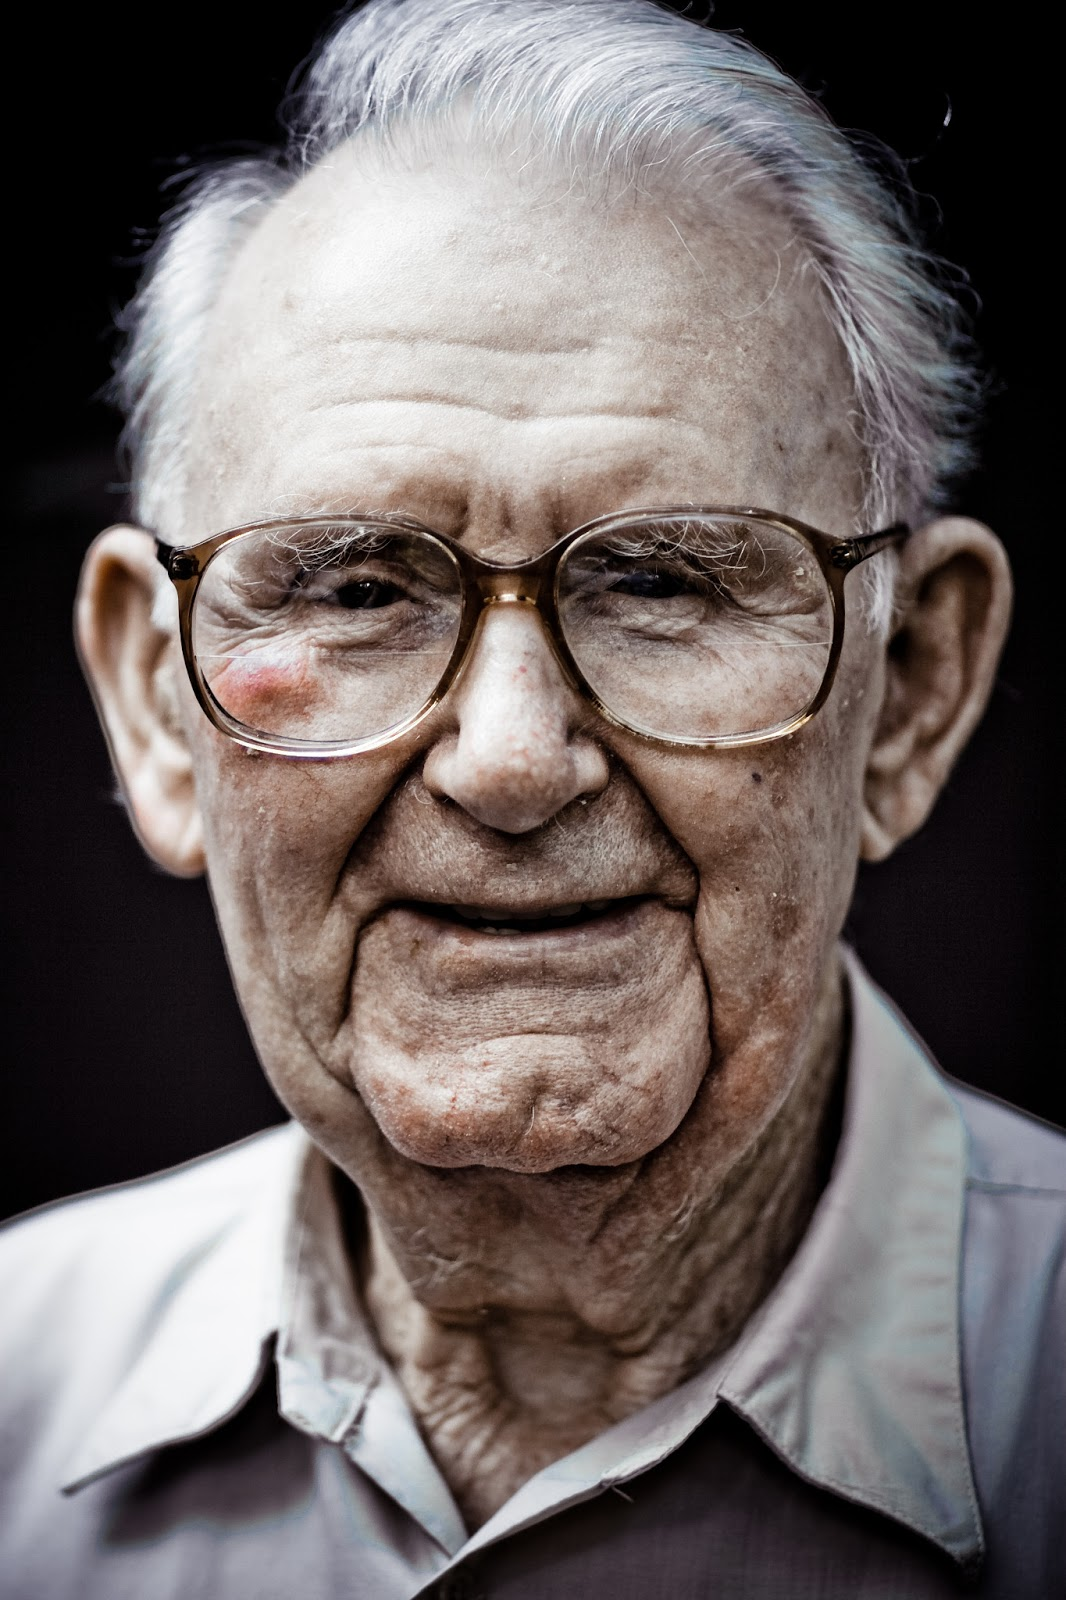without_mask: (195, 333, 860, 1108)
